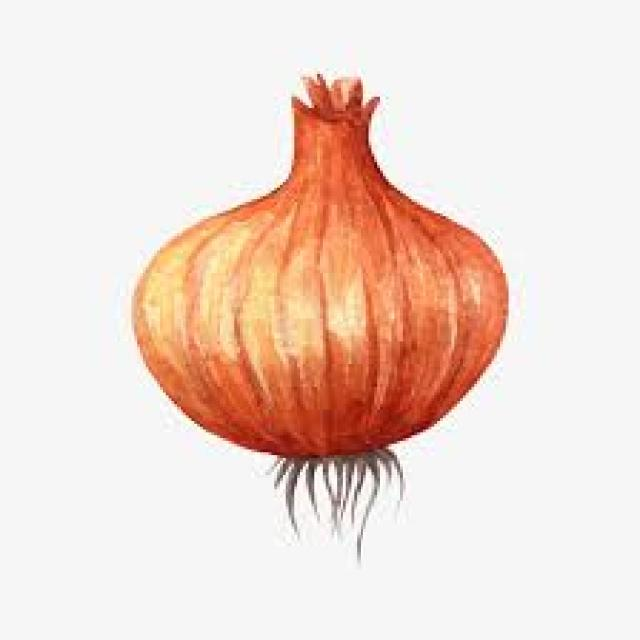organic waste: (128, 68, 506, 555)
